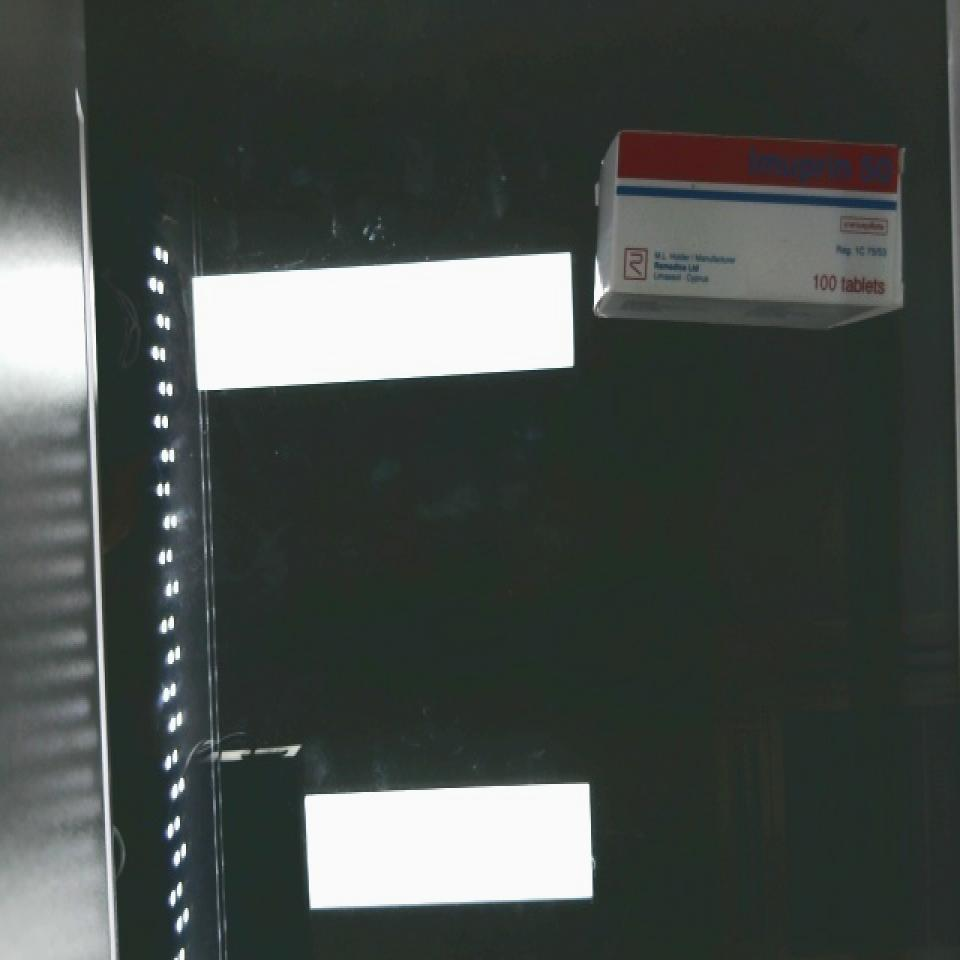medicine_box: (612, 131, 907, 308)
medicine_label_obb: (733, 131, 907, 202)
